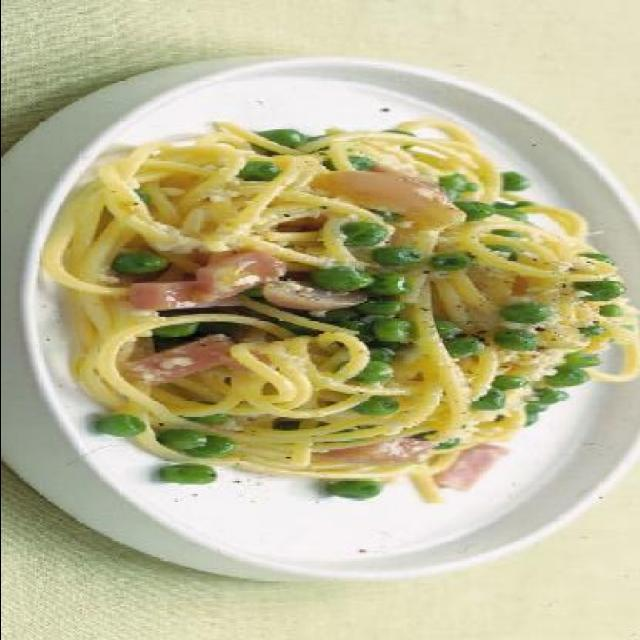Pasta with carbonara sauce: (71, 83, 614, 563)
